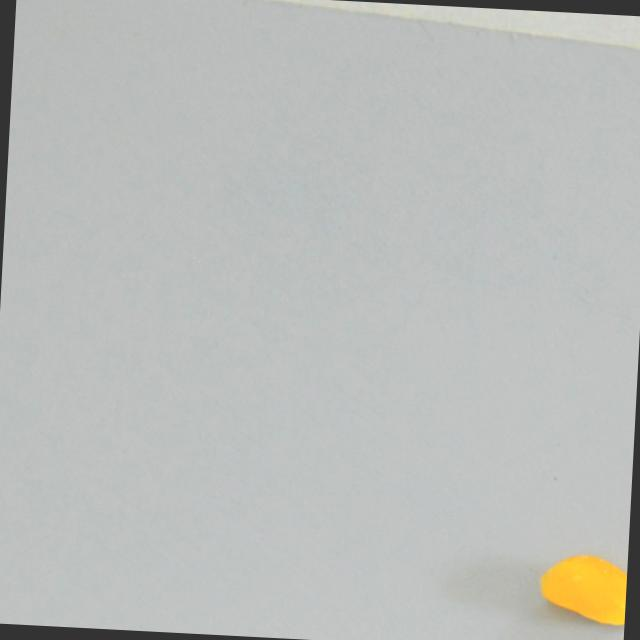estandar: (528, 537, 629, 625)
